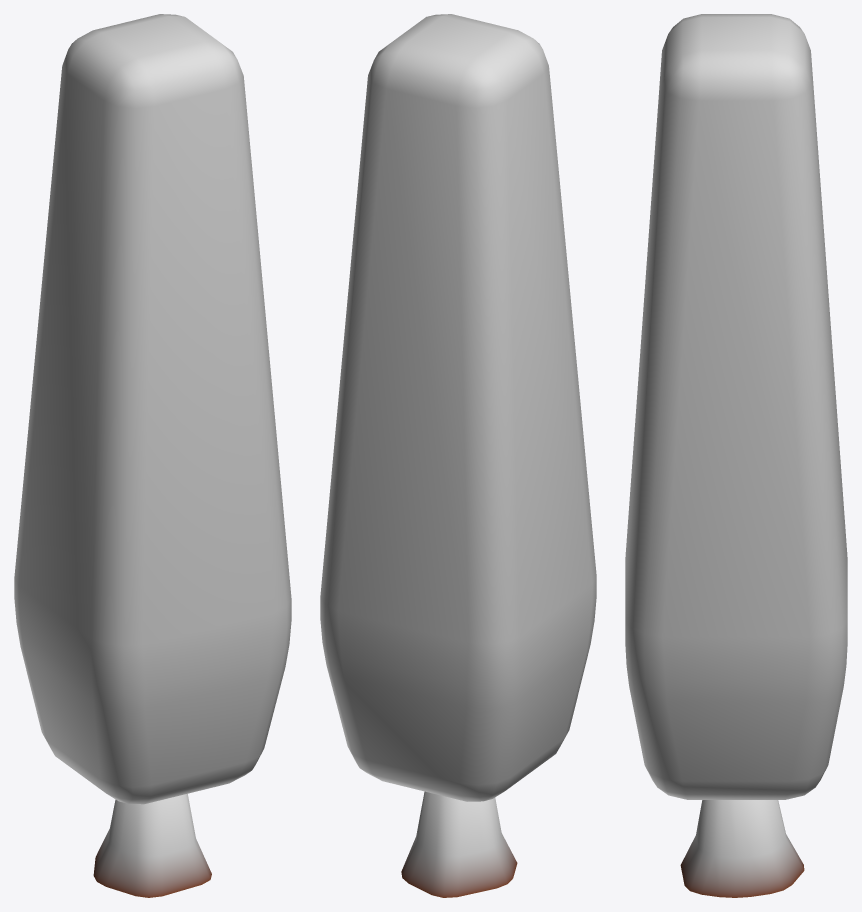
Rendered from NF_Veg_Tree_02.fbx.
The picture shows the model from 3 angles, left to right: view 1: azimuth 30°, elevation 25°; view 2: azimuth 150°, elevation 25°; view 3: azimuth 270°, elevation 25°; orthographic projection.
Visible parts, largest first — view 1: Tree_02; view 2: Tree_02; view 3: Tree_02.
Boxes of the visible parts, left/top/right/bottom form: Tree_02: left=14, top=14, right=291, bottom=897; Tree_02: left=320, top=14, right=596, bottom=897; Tree_02: left=625, top=14, right=847, bottom=897.
Size of the model in its own units: 1.37 by 5.58 by 1.34.
